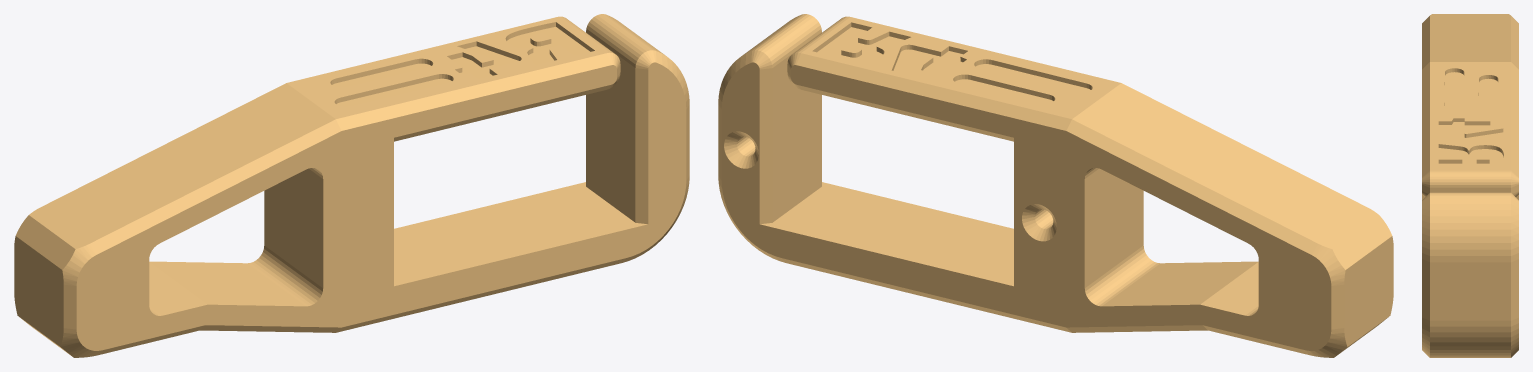
The model's file is foot_r4.glb.
3 views of the same model, side by side, from view 1: azimuth 30°, elevation 25°; view 2: azimuth 150°, elevation 25°; view 3: azimuth 270°, elevation 25° (orthographic). The views are drawn at different scales.
Parts seen in each view (by area): view 1: geometry_0; view 2: geometry_0; view 3: geometry_0.
Boxes of the visible parts, left/top/right/bottom form: geometry_0: left=14, top=14, right=689, bottom=357; geometry_0: left=718, top=14, right=1393, bottom=357; geometry_0: left=1422, top=14, right=1518, bottom=357.
Size of the model in its own units: 0.0584 by 0.019 by 0.00953.
